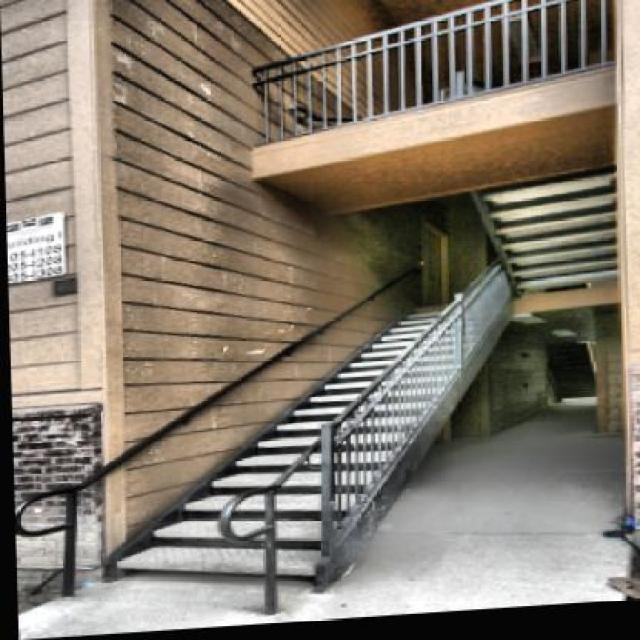stair: (86, 340, 517, 606)
